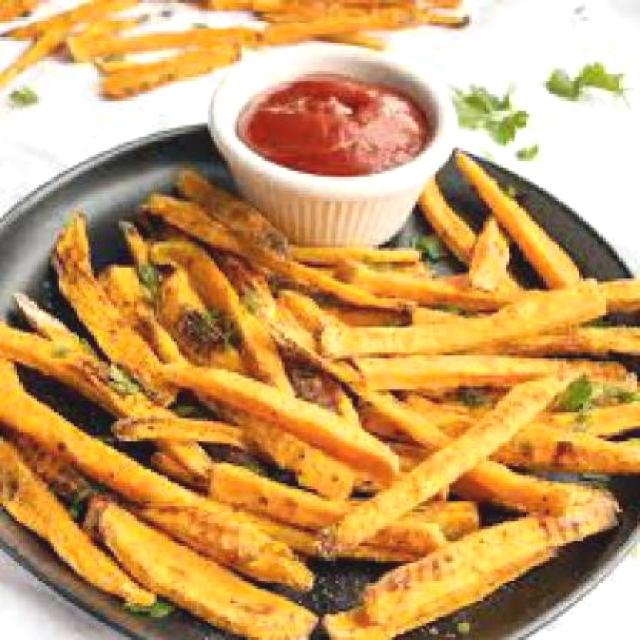fries: (3, 145, 640, 637)
